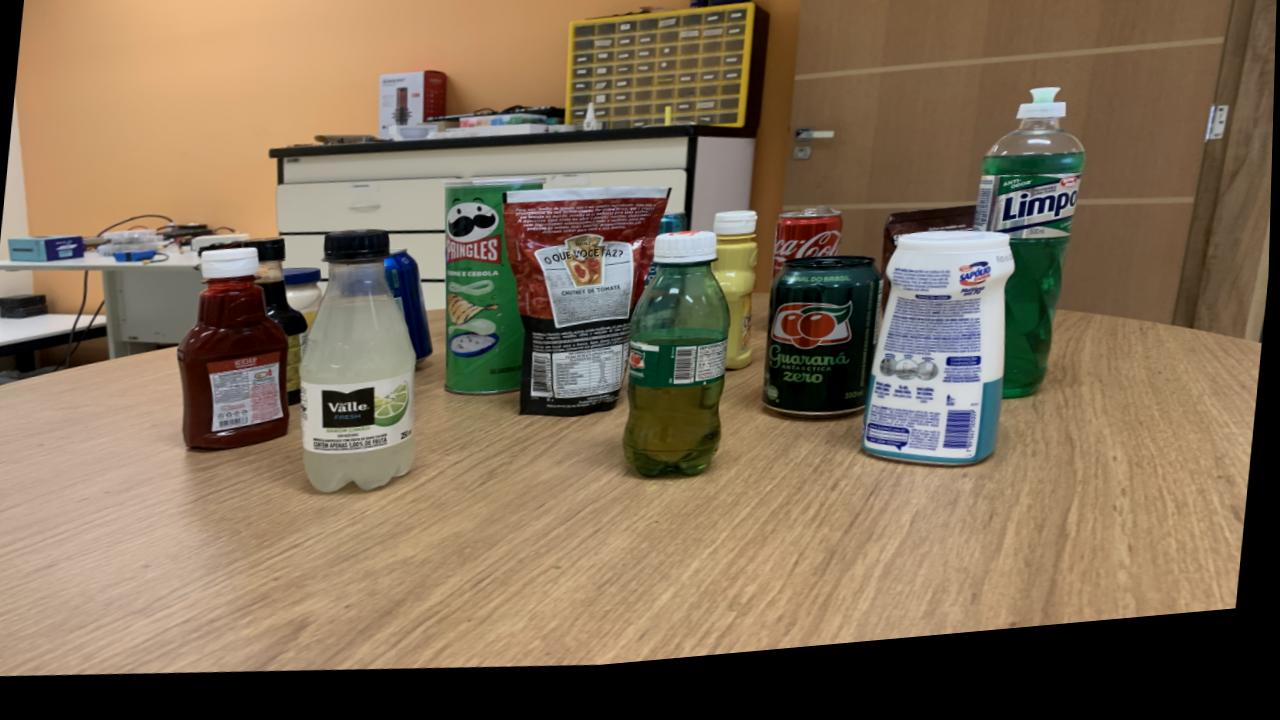Cleaner-Cleanup_Items: (864, 249, 1016, 483)
Coffee-Pantry_Items: (883, 223, 976, 287)
Coke-Drinks: (773, 221, 844, 291)
Detergent-Cleanup_Items: (977, 107, 1086, 417)
English_Sauce-Pantry_Items: (257, 244, 309, 409)
Guarana-Drinks: (626, 392, 726, 488), (632, 274, 732, 358)
Guarana_Can-Drinks: (764, 272, 883, 432)
Ketchup-Pantry_Items: (179, 251, 291, 452)
Mustard-Pantry_Items: (712, 225, 759, 383)
Pringles-Snacks: (444, 186, 546, 404)
Soda-Drinks: (302, 236, 418, 498)
Tea-Drinks: (302, 236, 418, 498)
Tomato_Sauce-Pantry_Items: (503, 199, 670, 426)
Tonic-Drinks: (384, 257, 434, 366)
